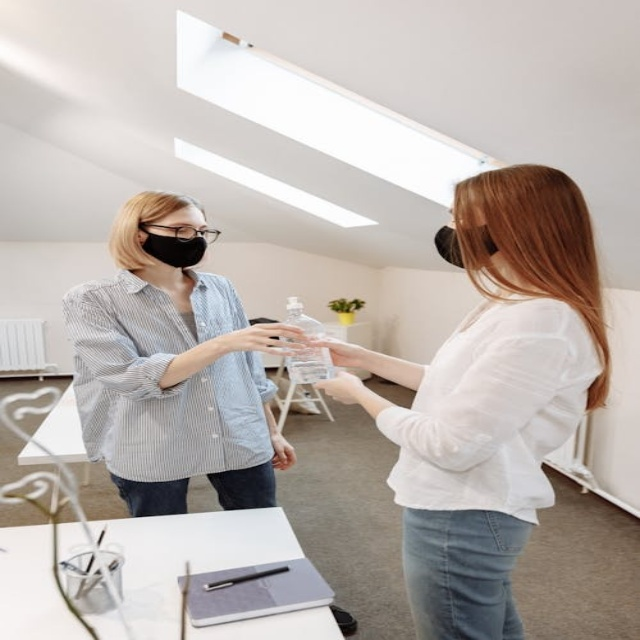Gafas: (141, 223, 222, 244)
Mascara: (139, 230, 211, 268), (435, 224, 497, 267)
Sin_guantes: (206, 323, 314, 363), (308, 370, 377, 410), (312, 330, 380, 368), (267, 433, 296, 470)
